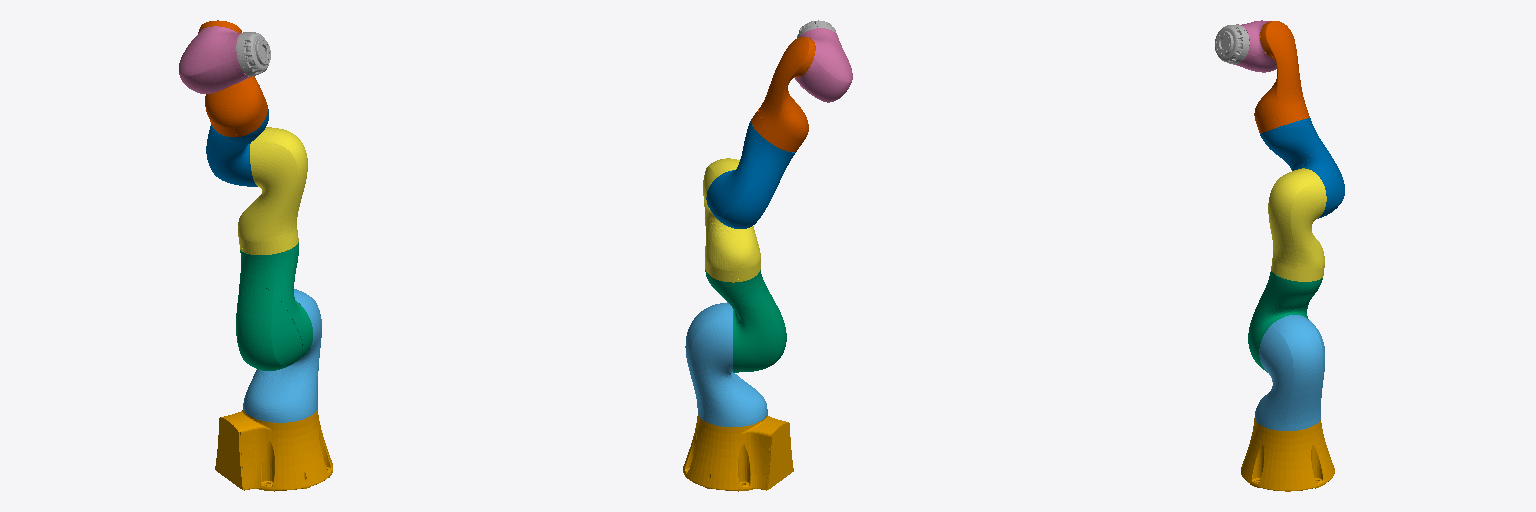
robot.urdf — iiwa_narrowerd_range:
<?xml version="1.0" encoding="UTF-8"?>
<robot name="iiwa_narrowerd_range">
  <joint name="iiwa_joint_1" type="revolute">
    <origin xyz="0. -0.0093516 0.1575 " rpy="0. 0. 0."/>
    <parent link="world"/>
    <child link="iiwa_link_1"/>
    <axis xyz="0. 0. 1."/>
    <limit lower="-2.9670597" upper="2.9670595" effort="300." velocity="9.9999995"/>
  </joint>
  <joint name="iiwa_joint_2" type="revolute">
    <origin xyz="0. -0. 0.2024999" rpy="1.5707963 0.0000002 -1.0253663"/>
    <parent link="iiwa_link_1"/>
    <child link="iiwa_link_2"/>
    <axis xyz="0. 0. 1."/>
    <limit lower="-1.5707963" upper="1.5707963" effort="300." velocity="9.9999995"/>
  </joint>
  <joint name="iiwa_joint_3" type="revolute">
    <origin xyz="-0.0287968 0.2024623 0. " rpy="1.5707963 -0.0000001 -3.0003073"/>
    <parent link="iiwa_link_2"/>
    <child link="iiwa_link_3"/>
    <axis xyz="0. 0. 1."/>
    <limit lower="-1.5707963" upper="1.5707963" effort="300." velocity="9.9999995"/>
  </joint>
  <joint name="iiwa_joint_4" type="revolute">
    <origin xyz="0. -0. 0.2155" rpy="1.5707965 -0.0000002 1.8380389"/>
    <parent link="iiwa_link_3"/>
    <child link="iiwa_link_4"/>
    <axis xyz="0. 0. 1."/>
    <limit lower="-2.0943951" upper="2.0943951" effort="300." velocity="9.9999995"/>
  </joint>
  <joint name="iiwa_joint_5" type="revolute">
    <origin xyz="0.1043384 0.1521634 0. " rpy="1.5707963 -0. 2.540529 "/>
    <parent link="iiwa_link_4"/>
    <child link="iiwa_link_5"/>
    <axis xyz="0. 0. 1."/>
    <limit lower="-1.5707963" upper="1.5707963" effort="300." velocity="9.9999995"/>
  </joint>
  <joint name="iiwa_joint_6" type="revolute">
    <origin xyz="0. 0. 0.2155" rpy="1.5707963 -0.0000001 -1.5706946"/>
    <parent link="iiwa_link_5"/>
    <child link="iiwa_link_6"/>
    <axis xyz="0. 0. 1."/>
    <limit lower="-1.7453293" upper="1.7453293" effort="300." velocity="9.9999995"/>
  </joint>
  <joint name="iiwa_joint_7" type="revolute">
    <origin xyz="0.0780868 0.0215278 -0. " rpy="1.5707965 0. 1.8398044"/>
    <parent link="iiwa_link_6"/>
    <child link="iiwa_link_7"/>
    <axis xyz="0. 0. 1."/>
    <limit lower="-3.0543262" upper="3.0543262" effort="300." velocity="9.9999995"/>
  </joint>
  <joint name="root_joint" type="fixed">
    <origin xyz="-0. 0.0093516 -0.0000001" rpy="0. 0. 0."/>
    <parent link="iiwa14"/>
    <child link="world"/>
  </joint>
  <link name="iiwa14"/>
  <link name="iiwa_link_1">
    <inertial>
      <origin xyz="0. -0.03 0.12" rpy="0. 0. 0."/>
      <mass value="4."/>
      <inertia ixx="0.1" ixy="0." ixz="0." iyy="0.09" iyz="0." izz="0.02"/>
    </inertial>
    <visual>
      <origin xyz="-0. 0. -0.0000001" rpy="0.0000001 -0.0000002 2.1162262"/>
      <geometry>
        <mesh filename="meshes/iiwa_link_1_visuals_link_1_mesh.obj" scale="1. 1. 1."/>
      </geometry>
    </visual>
    <visual>
      <origin xyz="-0. 0. -0.0000001" rpy="0.0000001 -0.0000002 2.1162262"/>
      <geometry>
        <mesh filename="meshes/iiwa_link_1_collisions_link_1_mesh.obj" scale="1. 1. 1."/>
      </geometry>
    </visual>
  </link>
  <link name="iiwa_link_2">
    <inertial>
      <origin xyz="0.0003 0.059 0.042 " rpy="0. 0. 0."/>
      <mass value="4."/>
      <inertia ixx="0.05" ixy="0." ixz="0." iyy="0.018" iyz="0." izz="0.044"/>
    </inertial>
    <visual>
      <origin xyz="-0. -0. 0." rpy="0.0000001 0.0000001 0.1412853"/>
      <geometry>
        <mesh filename="meshes/iiwa_link_2_visuals_link_2_mesh.obj" scale="1. 1. 1."/>
      </geometry>
    </visual>
    <visual>
      <origin xyz="-0. -0. 0." rpy="0.0000001 0.0000001 0.1412853"/>
      <geometry>
        <mesh filename="meshes/iiwa_link_2_collisions_link_2_mesh.obj" scale="1. 1. 1."/>
      </geometry>
    </visual>
  </link>
  <link name="iiwa_link_3">
    <inertial>
      <origin xyz="0. 0.03 0.13" rpy="0. 0. 0."/>
      <mass value="3."/>
      <inertia ixx="0.08" ixy="0." ixz="0." iyy="0.075" iyz="0." izz="0.01"/>
    </inertial>
    <visual>
      <origin xyz="-0. 0. 0." rpy="0.0000001 -0.0000002 1.8380389"/>
      <geometry>
        <mesh filename="meshes/iiwa_link_3_visuals_link_3_mesh.obj" scale="1. 1. 1."/>
      </geometry>
    </visual>
    <visual>
      <origin xyz="-0. 0. 0." rpy="0.0000001 -0.0000002 1.8380389"/>
      <geometry>
        <mesh filename="meshes/iiwa_link_3_collisions_link_3_mesh.obj" scale="1. 1. 1."/>
      </geometry>
    </visual>
  </link>
  <link name="iiwa_link_4">
    <inertial>
      <origin xyz="0. 0.067 0.034" rpy="0. 0. 0."/>
      <mass value="2.7"/>
      <inertia ixx="0.03" ixy="0." ixz="0." iyy="0.01" iyz="0." izz="0.029"/>
    </inertial>
    <visual>
      <origin xyz="-0. -0.0000001 0. " rpy="0. -0.0000001 -0.6010636"/>
      <geometry>
        <mesh filename="meshes/iiwa_link_4_visuals_link_4_mesh.obj" scale="1. 1. 1."/>
      </geometry>
    </visual>
    <visual>
      <origin xyz="-0. -0.0000001 0. " rpy="0. -0.0000001 -0.6010636"/>
      <geometry>
        <mesh filename="meshes/iiwa_link_4_collisions_link_4_mesh.obj" scale="1. 1. 1."/>
      </geometry>
    </visual>
  </link>
  <link name="iiwa_link_5">
    <inertial>
      <origin xyz="0.0001 0.021 0.076 " rpy="0. 0. 0."/>
      <mass value="1.7"/>
      <inertia ixx="0.02" ixy="0." ixz="0." iyy="0.018" iyz="0." izz="0.005"/>
    </inertial>
    <visual>
      <origin xyz="-0. -0. -0." rpy="-0.0000001 -0.0000001 -1.5706946"/>
      <geometry>
        <mesh filename="meshes/iiwa_link_5_visuals_link_5_mesh.obj" scale="1. 1. 1."/>
      </geometry>
    </visual>
    <visual>
      <origin xyz="-0. -0. -0." rpy="-0.0000001 -0.0000001 -1.5706946"/>
      <geometry>
        <mesh filename="meshes/iiwa_link_5_collisions_link_5_mesh.obj" scale="1. 1. 1."/>
      </geometry>
    </visual>
  </link>
  <link name="iiwa_link_6">
    <inertial>
      <origin xyz="0. 0.0006 0.0004" rpy="0. 0. 0."/>
      <mass value="1.8"/>
      <inertia ixx="0.005" ixy="0." ixz="0." iyy="0.0036" iyz="0." izz="0.0047"/>
    </inertial>
    <visual>
      <origin xyz="0. -0. -0." rpy="-0.0000002 -0.0000001 -1.3017882"/>
      <geometry>
        <mesh filename="meshes/iiwa_link_6_visuals_link_6_mesh.obj" scale="1. 1. 1."/>
      </geometry>
    </visual>
    <visual>
      <origin xyz="0. -0. -0." rpy="-0.0000002 -0.0000001 -1.3017882"/>
      <geometry>
        <mesh filename="meshes/iiwa_link_6_collisions_link_6_mesh.obj" scale="1. 1. 1."/>
      </geometry>
    </visual>
  </link>
  <link name="iiwa_link_7">
    <inertial>
      <origin xyz="0. 0. 0.02" rpy="0. 0. 0."/>
      <mass value="0.3"/>
      <inertia ixx="0.001" ixy="0." ixz="0." iyy="0.001" iyz="0." izz="0.001"/>
    </inertial>
    <visual>
      <origin xyz="0.0000001 -0.0000001 0. " rpy="0.0000002 -0.0000001 1.1691619"/>
      <geometry>
        <mesh filename="meshes/iiwa_link_7_visuals_link_7_mesh.obj" scale="1. 1. 1."/>
      </geometry>
    </visual>
    <visual>
      <origin xyz="0.0000001 -0.0000001 0. " rpy="0.0000002 -0.0000001 1.1691619"/>
      <geometry>
        <mesh filename="meshes/iiwa_link_7_collisions_link_7_mesh.obj" scale="1. 1. 1."/>
      </geometry>
    </visual>
  </link>
  <link name="world">
    <inertial>
      <origin xyz="-0.1 0. 0.07" rpy="0. 0. 0."/>
      <mass value="5."/>
      <inertia ixx="0.05" ixy="0." ixz="0." iyy="0.06" iyz="0." izz="0.03"/>
    </inertial>
    <visual>
      <origin xyz="0. -0.0093516 0.0000001" rpy="0. 0. 0."/>
      <geometry>
        <mesh filename="meshes/world_visuals_link_0_mesh.obj" scale="1. 1. 1."/>
      </geometry>
    </visual>
    <visual>
      <origin xyz="0. -0.0093516 0.0000001" rpy="0. 0. 0."/>
      <geometry>
        <mesh filename="meshes/world_collisions_link_0_mesh.obj" scale="1. 1. 1."/>
      </geometry>
    </visual>
  </link>
</robot>

--- Facts derived from the render (not from the file) ---
The picture shows the robot from 3 angles, left to right: view 1: azimuth 30°, elevation 25°; view 2: azimuth 150°, elevation 25°; view 3: azimuth 270°, elevation 25°; orthographic projection.
Model iiwa_narrowerd_range with 9 links and 8 joints (7 revolute, 1 fixed), rooted at iiwa14, posed all joints at 0.
Visible links, largest first — view 1: world, iiwa_link_2, iiwa_link_3, iiwa_link_1, iiwa_link_6, iiwa_link_5, iiwa_link_4, iiwa_link_7; view 2: world, iiwa_link_1, iiwa_link_4, iiwa_link_2, iiwa_link_5, iiwa_link_3, iiwa_link_6; view 3: iiwa_link_1, iiwa_link_3, world, iiwa_link_5, iiwa_link_4, iiwa_link_2, iiwa_link_7, iiwa_link_6.
Boxes of the visible links, x1,y1,x2,y2 form: world: (215,409,332,491); iiwa_link_2: (236,242,312,370); iiwa_link_3: (238,127,307,254); iiwa_link_1: (243,289,321,422); iiwa_link_6: (179,26,249,93); iiwa_link_5: (198,20,267,136); iiwa_link_4: (206,105,268,186); iiwa_link_7: (236,32,270,76); world: (683,414,793,491); iiwa_link_1: (685,302,767,426); iiwa_link_4: (706,121,795,228); iiwa_link_2: (705,270,786,372); iiwa_link_5: (751,37,815,151); iiwa_link_3: (703,158,760,282); iiwa_link_6: (794,28,852,102); iiwa_link_1: (1255,315,1324,430); iiwa_link_3: (1268,168,1326,281); world: (1241,418,1334,491); iiwa_link_5: (1254,21,1309,133); iiwa_link_4: (1260,118,1344,218); iiwa_link_2: (1248,271,1322,372); iiwa_link_7: (1215,24,1249,64); iiwa_link_6: (1236,20,1276,72).
Size in the robot's own frame: 0.4191 by 0.3358 by 1.19 metres.
15 mesh visuals loaded from 16 distinct referenced files (15 OBJ); not drawn: 1 (reference not matched to a file when rendering).
